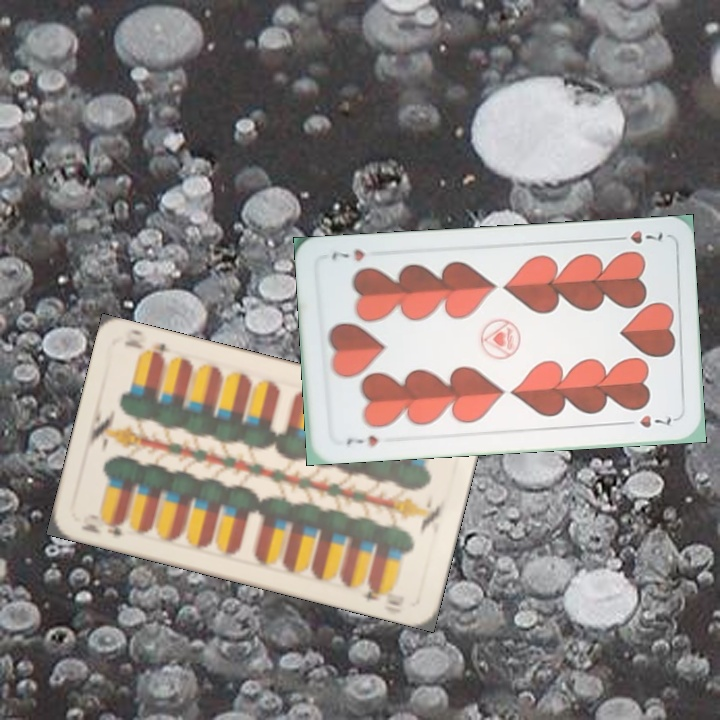E10: (77, 512, 127, 539)
H7: (609, 226, 666, 246), (342, 431, 380, 449)
